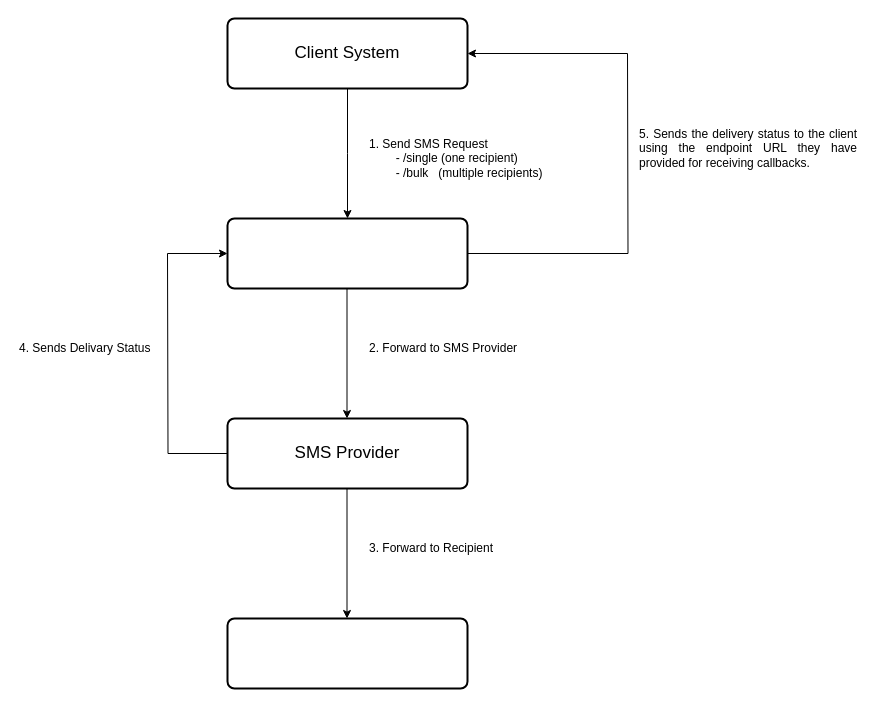
The diagram is 874 pixels wide and 706 high, and some of its shapes have lost their labels. Each missing label, with the box of its shape:
Central SMS API: (226, 217, 468, 289)
Recipient: (226, 617, 468, 689)
